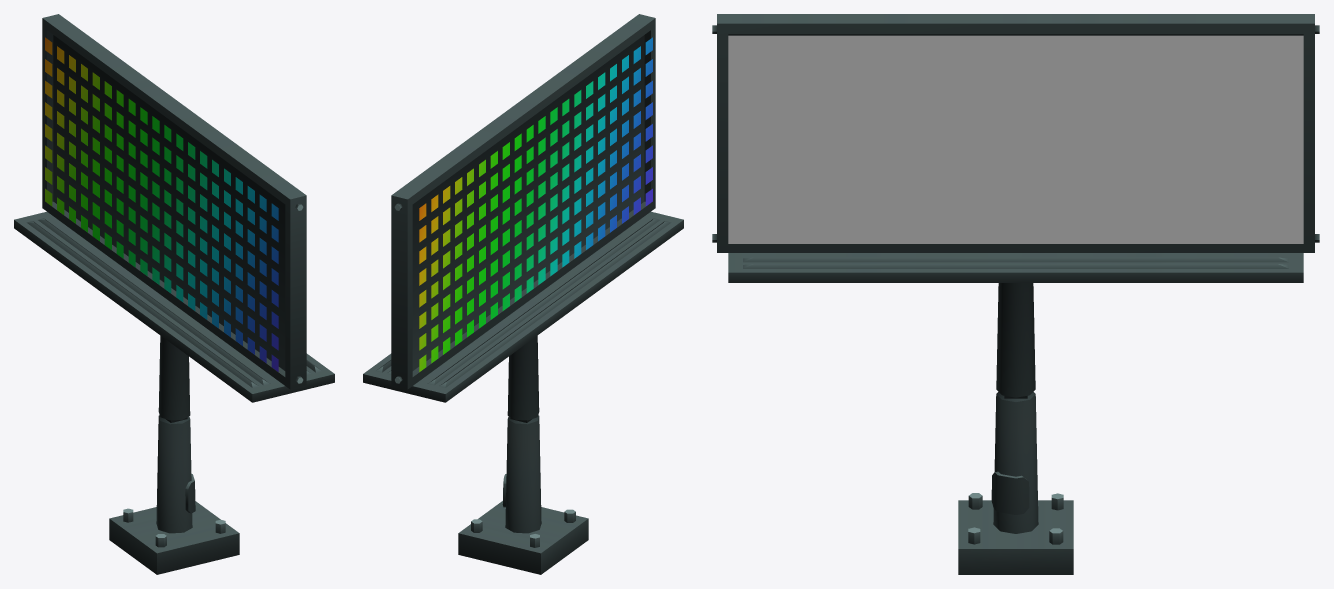
The model's file is Billboard_2A.fbx.
3 renders of one model, left to right at view 1: azimuth 30°, elevation 25°; view 2: azimuth 150°, elevation 25°; view 3: azimuth 270°, elevation 25°, orthographic. The views are drawn at different scales.
Visible parts, largest first — view 1: Billboard_2A, Billboard_2A_Image.L; view 2: Billboard_2A, Billboard_2A_Image.L; view 3: Billboard_2A_Image.R, Billboard_2A.
Boxes of the visible parts, x1,y1,x2,y2 form: Billboard_2A: [14, 14, 334, 574]; Billboard_2A_Image.L: [45, 37, 278, 371]; Billboard_2A: [363, 14, 683, 574]; Billboard_2A_Image.L: [419, 37, 652, 371]; Billboard_2A_Image.R: [728, 35, 1303, 243]; Billboard_2A: [712, 14, 1319, 574].
Bounding box in the file's own units: 200 × 1020 × 1056.
